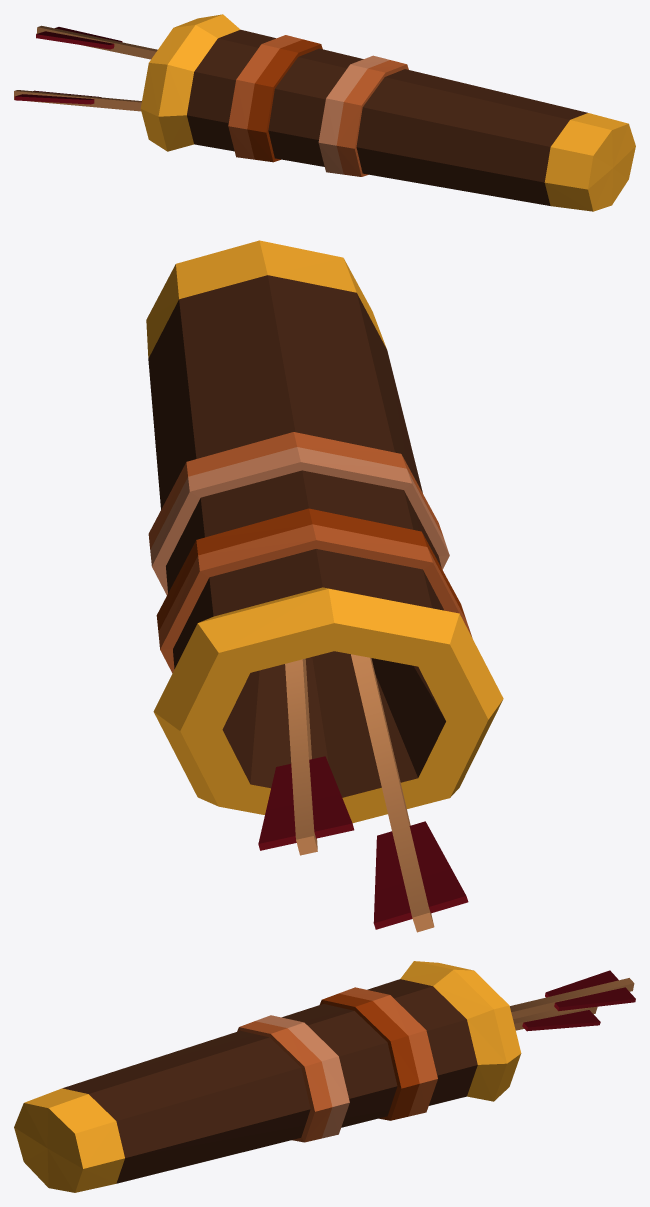
The model's file is Quiver 01.FBX.
3 renders of one model, top to bottom at view 1: azimuth 30°, elevation 25°; view 2: azimuth 150°, elevation 25°; view 3: azimuth 270°, elevation 25°, orthographic. The views are drawn at different scales.
Parts seen in each view (by area): view 1: Quiver 01; view 2: Quiver 01; view 3: Quiver 01.
Part boxes in pixels (x1=…): Quiver 01: x1=14, y1=14, x2=635, y2=211; Quiver 01: x1=146, y1=240, x2=503, y2=932; Quiver 01: x1=14, y1=961, x2=635, y2=1192.
Size of the model in its own units: 69.74 by 19.83 by 90.51.
Materials: 1 (1 with a texture image).
